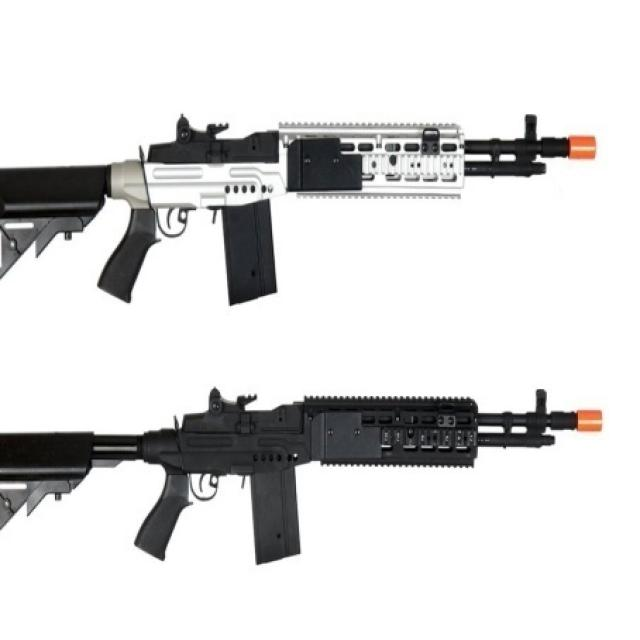Gun: (0, 110, 608, 328), (0, 375, 612, 574)
